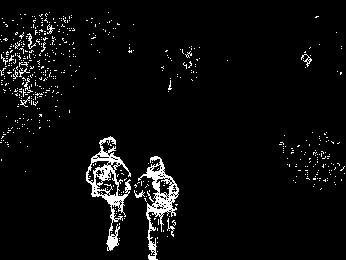person: (84, 134, 131, 251), (135, 154, 181, 260)
